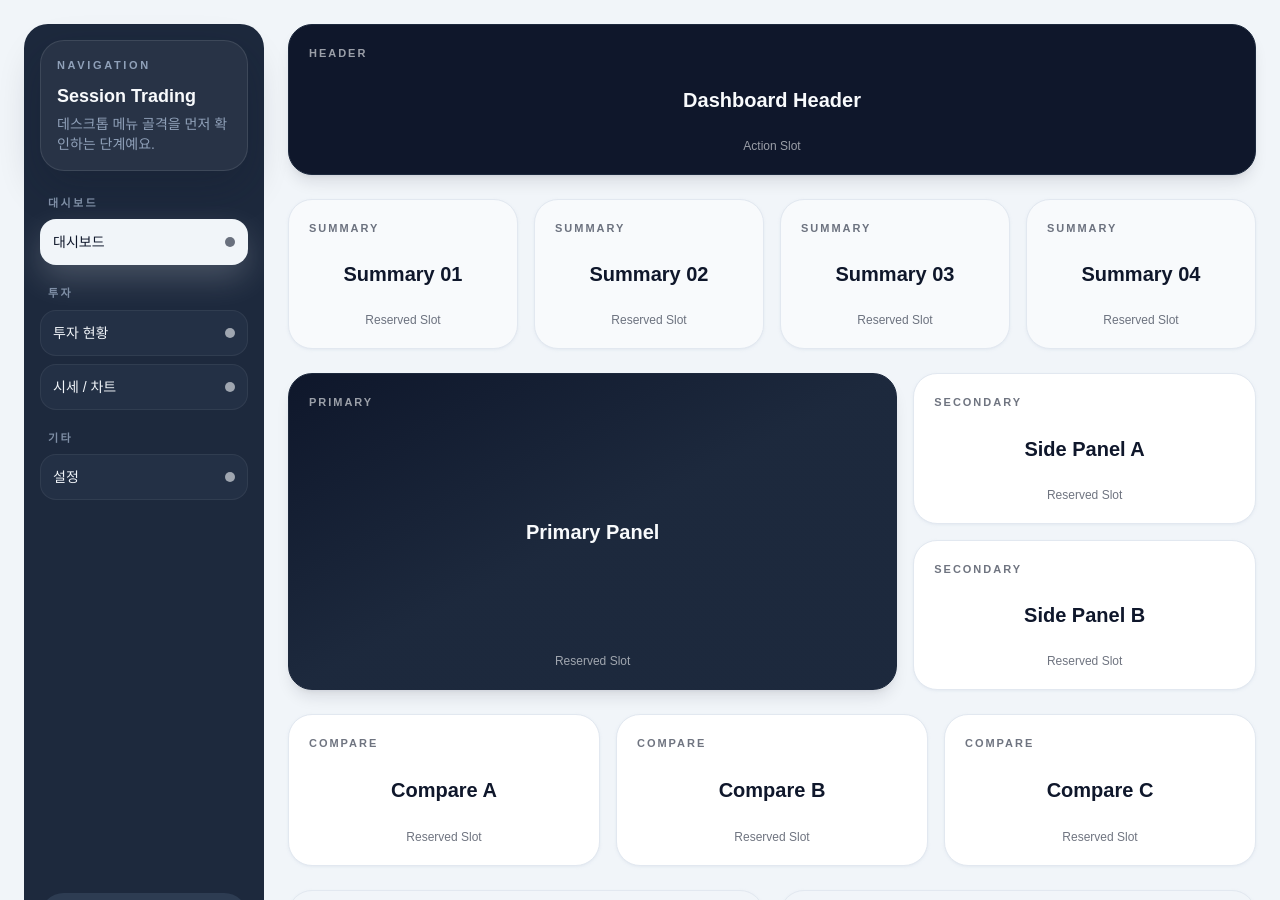
it: App routing › renders the market chart desktop layout when the sidebar menu is clicked
The width and height of the screenshot is (1280, 900).
Click the link "시세 / 차트": point(144, 386) [40,364,248,410]
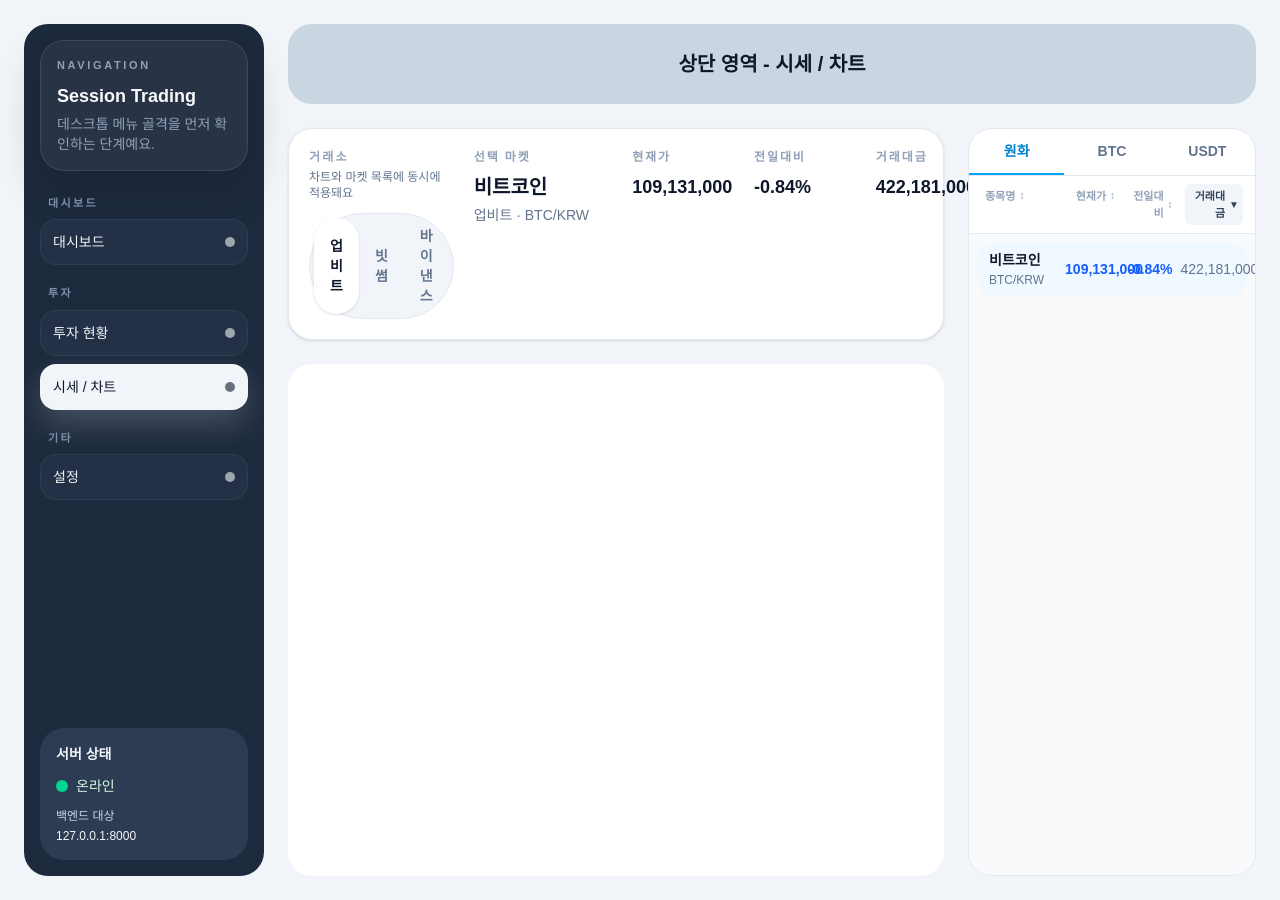
Expected: the tab "빗썸" is shown, [359,218,404,314]
Expected: the tab "바이낸스" is shown, [404,218,449,314]
Expected: the tab "BTC" is shown, [1064,129,1160,175]
